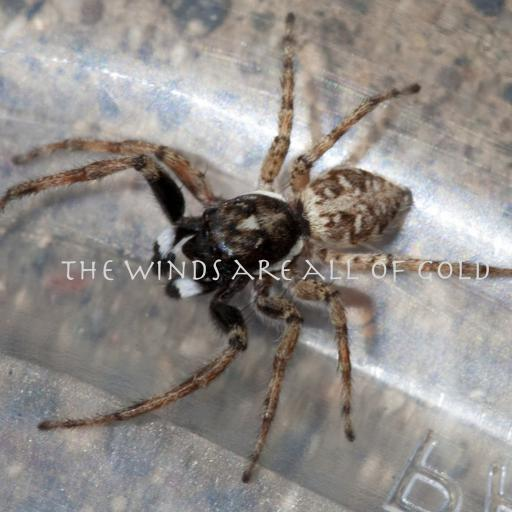Herculanum: (61, 259, 493, 283)
